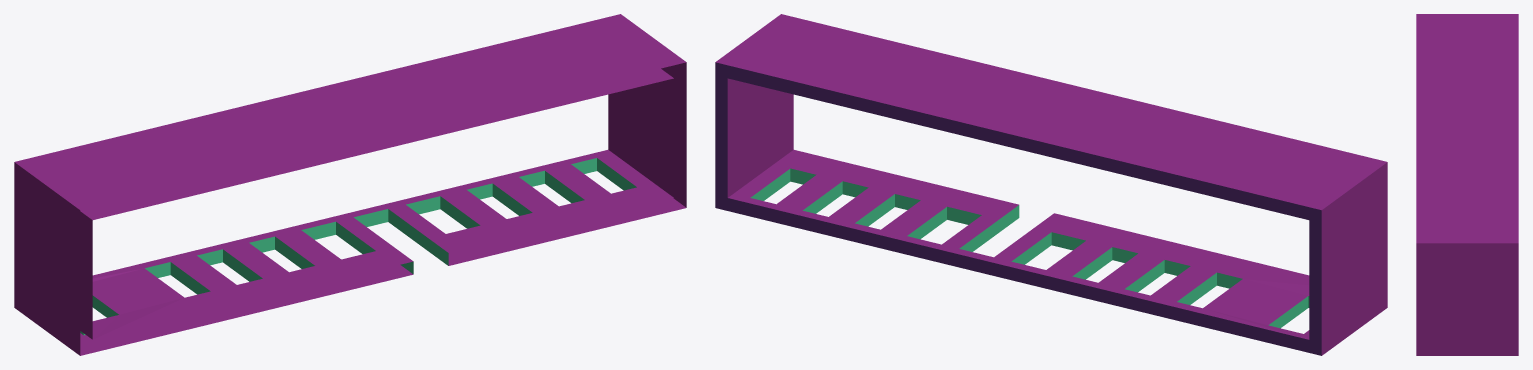
File: Willa Włodzimierza Kulczyckiego Tier 1.fbx
3 renders of one model, left to right at view 1: azimuth 30°, elevation 25°; view 2: azimuth 150°, elevation 25°; view 3: azimuth 270°, elevation 25°, orthographic. The views are drawn at different scales.
Parts seen in each view (by area): view 1: Walec_3; view 2: Walec_3; view 3: Walec_3.
Boxes of the visible parts, x1,y1,x2,y2 form: Walec_3: [14, 14, 686, 355]; Walec_3: [715, 14, 1387, 355]; Walec_3: [1416, 14, 1518, 355].
Bounding box in the file's own units: 3.97 × 0.9118 × 0.7482.
